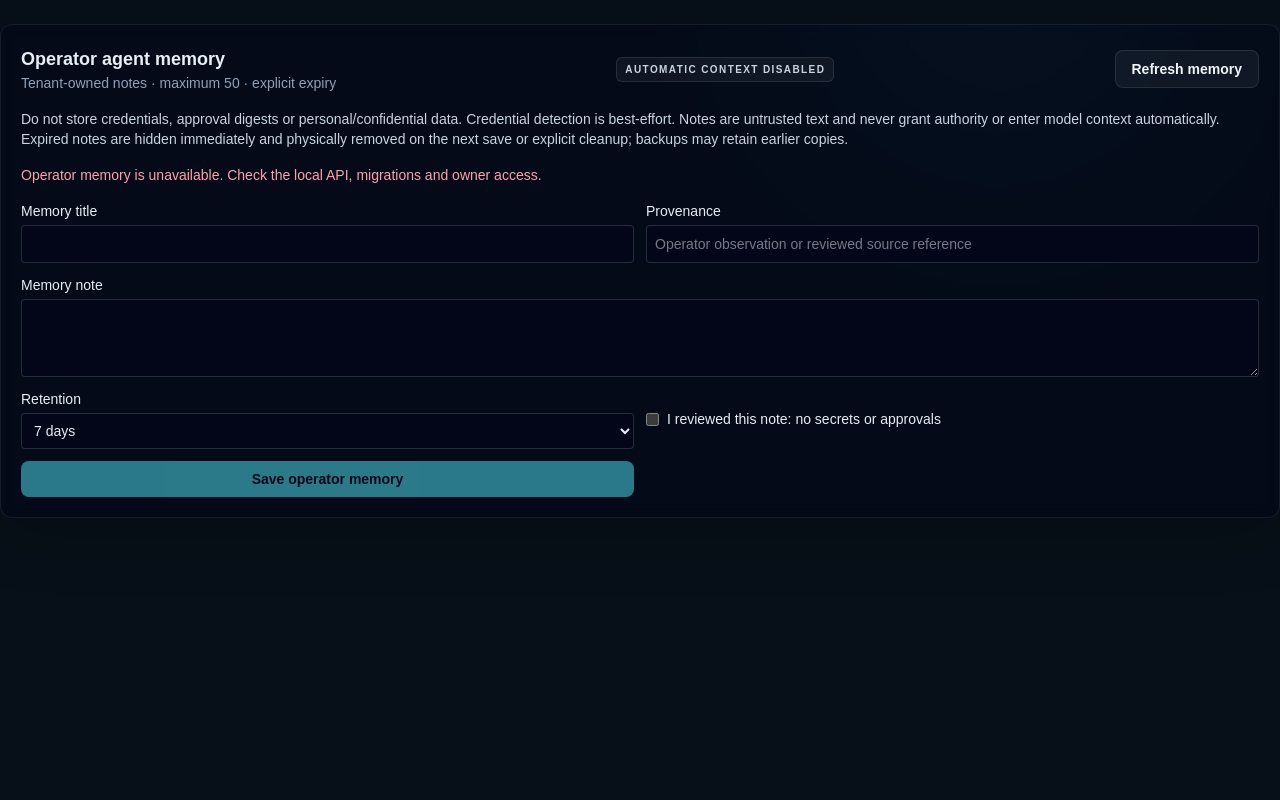
Test: AgentMemoryWorkspace › allows refresh after loading fails
expect the message is shown: met, box [21,167,542,183]
Click the button "Refresh memory" at (1187,69), box [1114,50,1259,88]
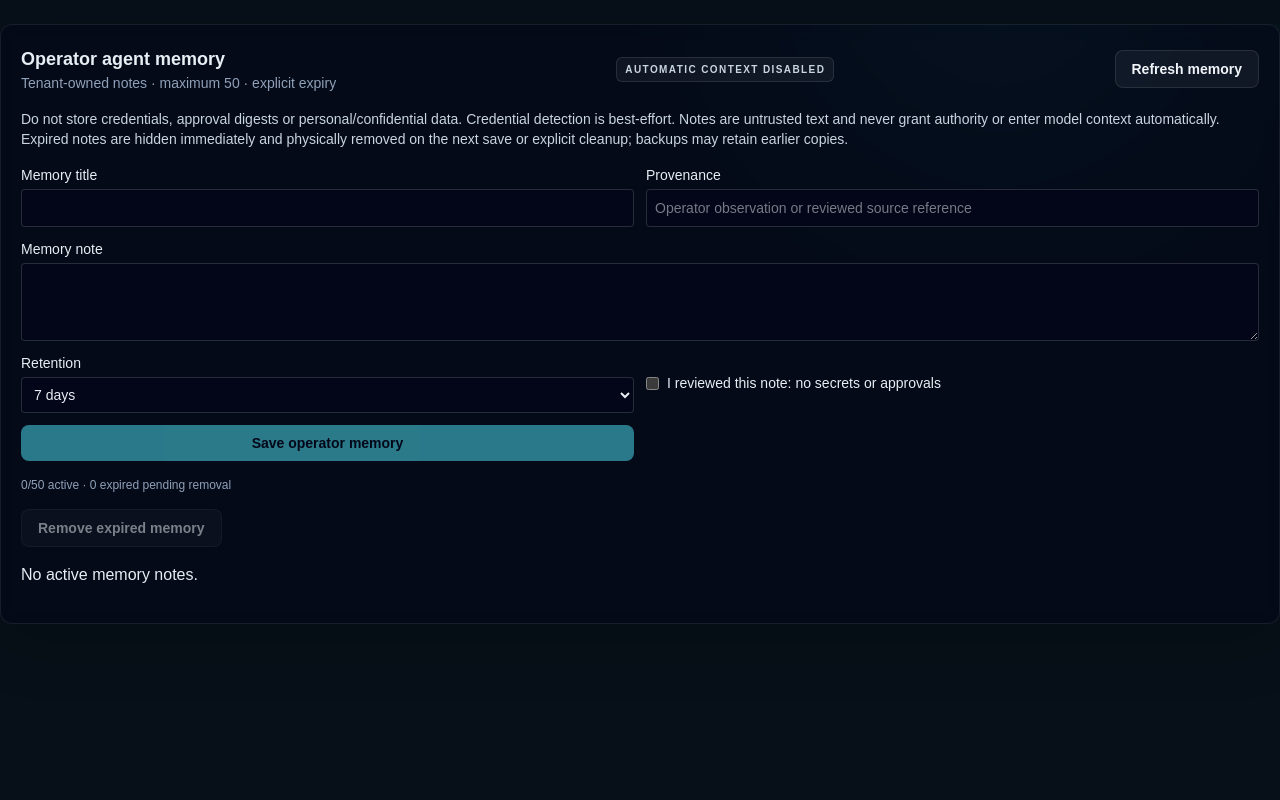
expect the message is gone: met
expect the text "No active memory notes." is shown: met, box [21,566,198,583]
